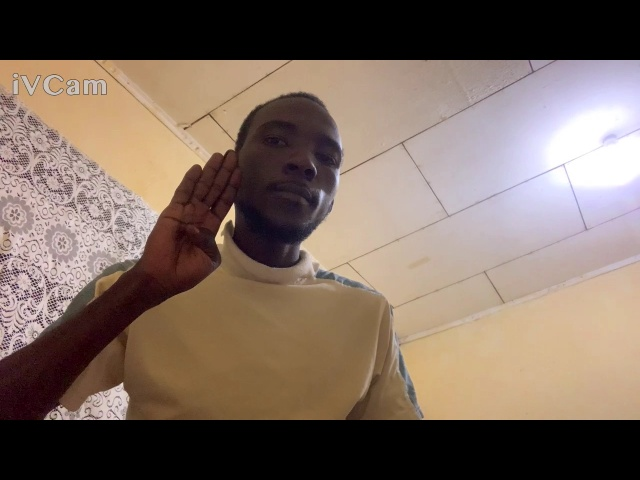s'il te plait: (138, 145, 240, 309)
